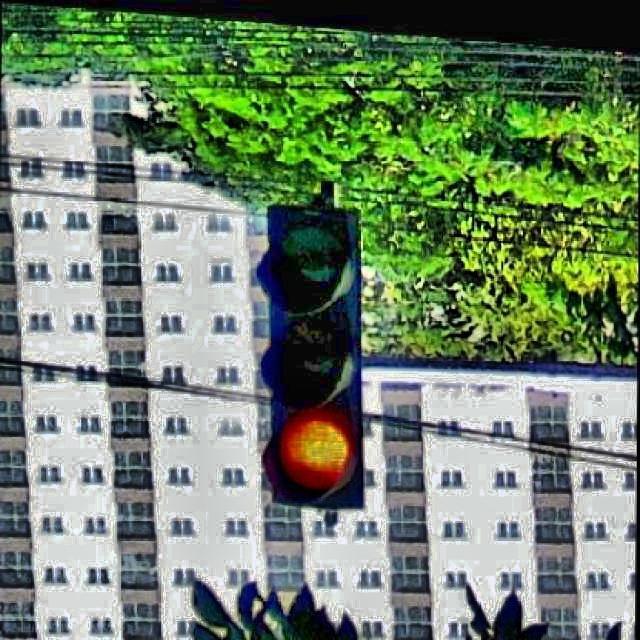red: (254, 205, 370, 513)
